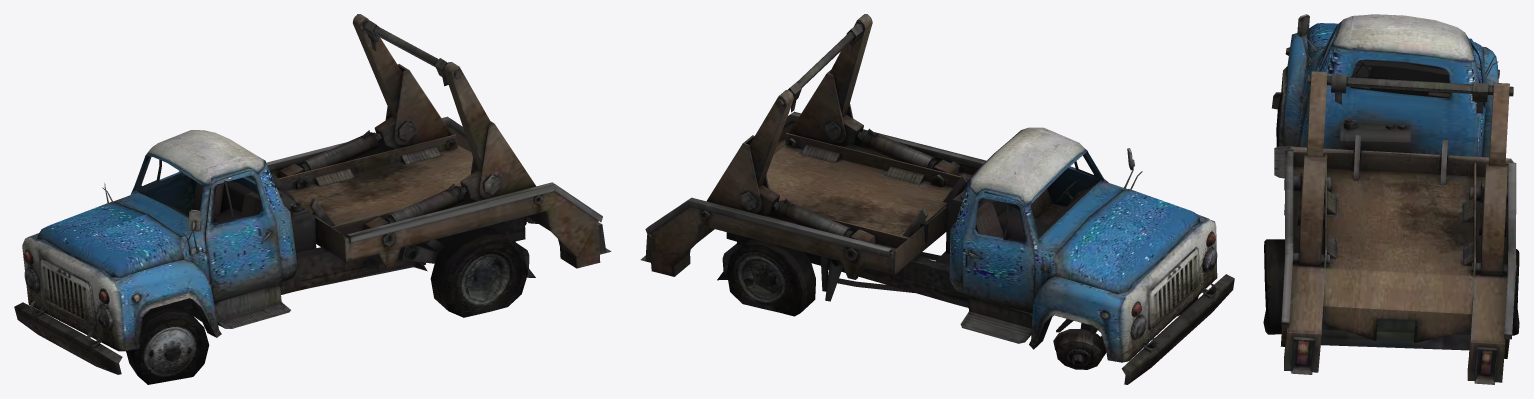
The model's file is truck003a.glb.
The picture shows the model from 3 angles, left to right: view 1: azimuth 30°, elevation 25°; view 2: azimuth 150°, elevation 25°; view 3: azimuth 270°, elevation 25°; orthographic projection. The views are drawn at different scales.
Parts seen in each view (by area): view 1: 0_truck003a_01; view 2: 0_truck003a_01; view 3: 0_truck003a_01.
Boxes of the visible parts, x1=… form: 0_truck003a_01: x1=14, y1=14, x2=611, y2=384; 0_truck003a_01: x1=640, y1=14, x2=1234, y2=384; 0_truck003a_01: x1=1263, y1=14, x2=1519, y2=384.
Size of the model in its own units: 7.44 by 3.27 by 3.05.
Materials: 1 (1 with a texture image).
